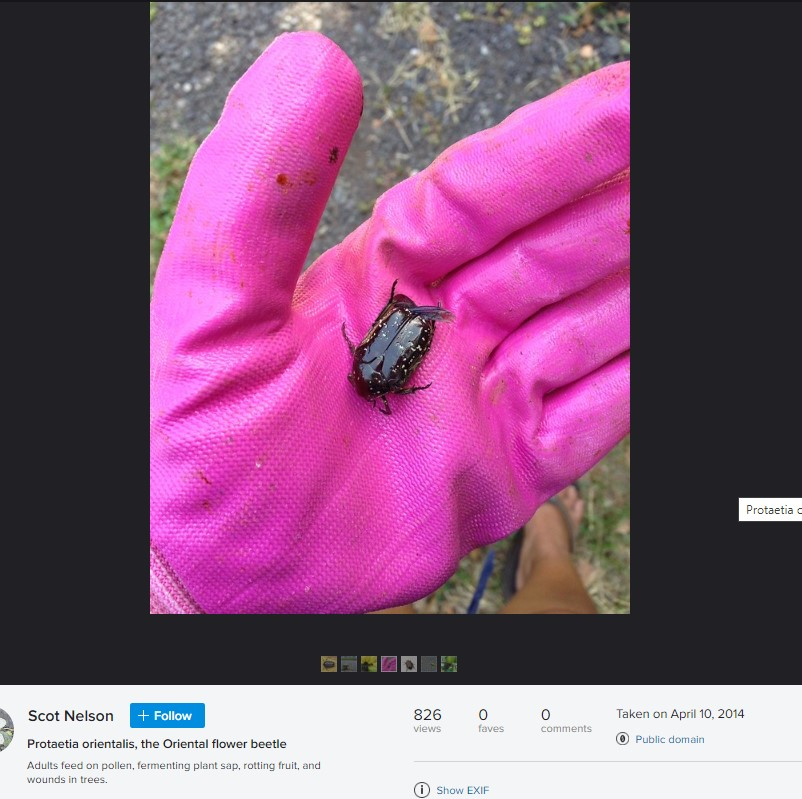Protaetia _orientalis: (329, 278, 449, 418)
